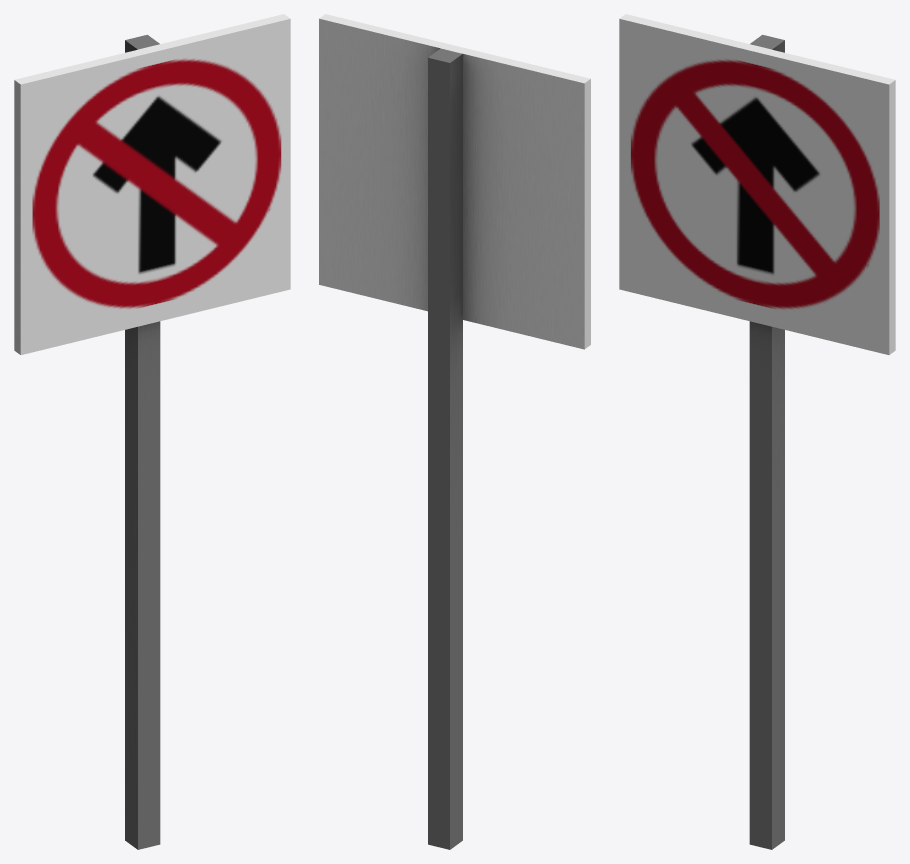
File: NoFront.glb
The picture shows the model from 3 angles, left to right: view 1: azimuth 30°, elevation 25°; view 2: azimuth 150°, elevation 25°; view 3: azimuth 330°, elevation 25°; orthographic projection.
Visible parts, largest first — view 1: Cube; view 2: Cube; view 3: Cube.
Part boxes in pixels (left/top/right/bottom): Cube: left=14, top=14, right=290, bottom=849; Cube: left=319, top=14, right=590, bottom=849; Cube: left=619, top=14, right=895, bottom=849.
Bounding box in the file's own units: 2.4 × 6.8 × 0.3.
1 material, 1 textured.
